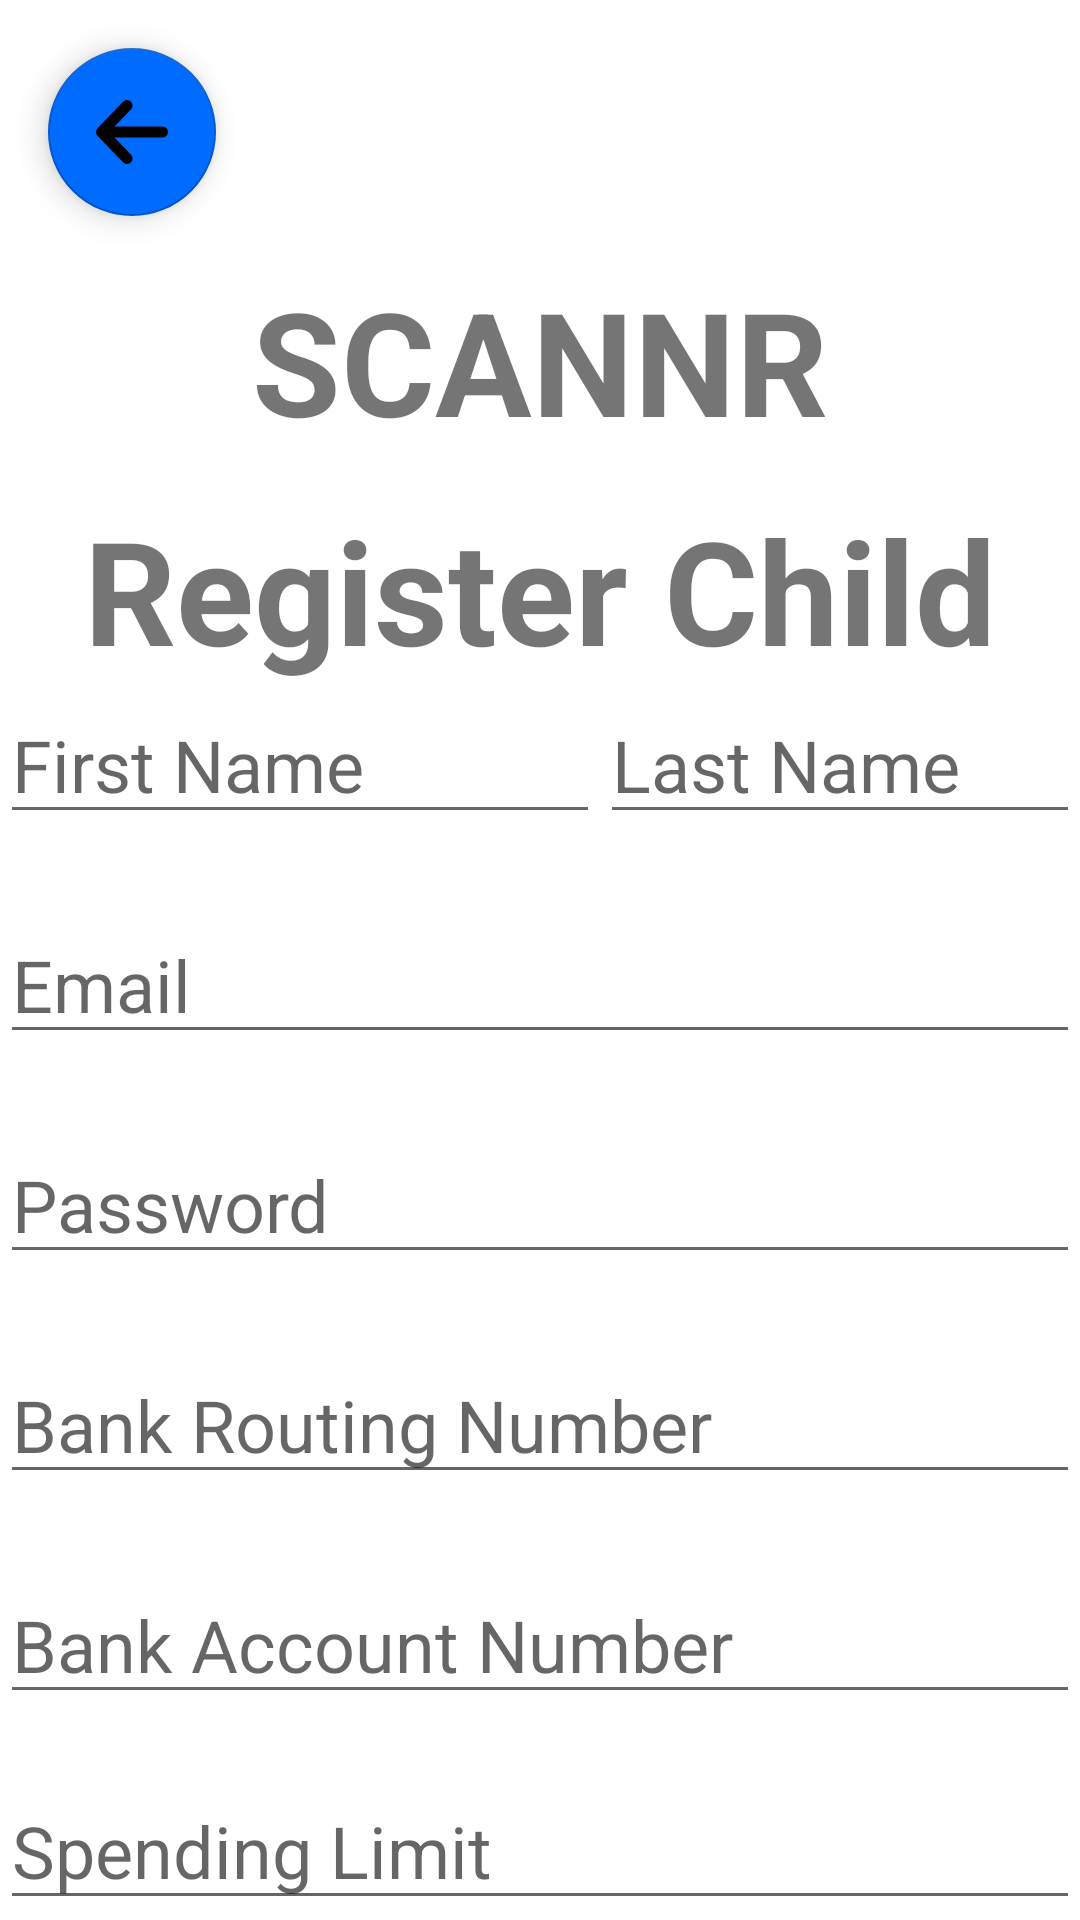

Where to tap for icons on this 1080×1920 app screen, as (x=x, y=y):
Back: (x=132, y=132)
